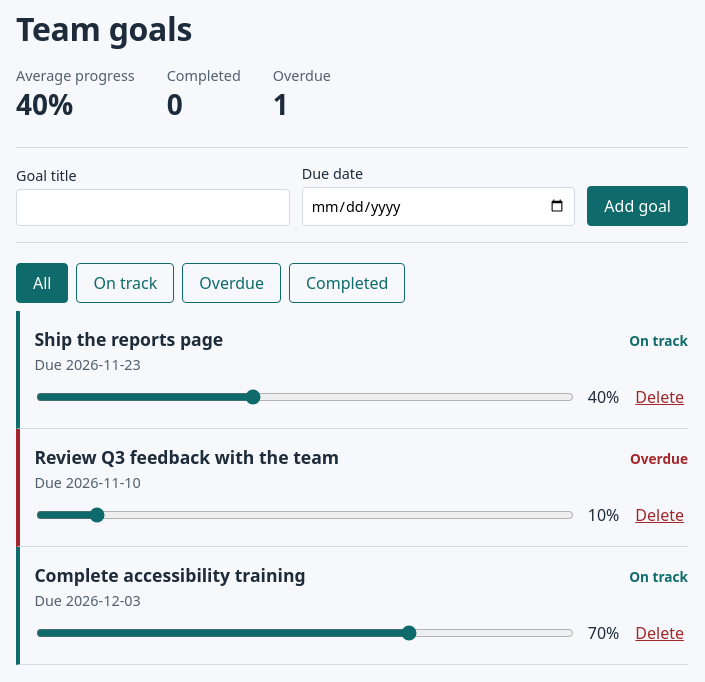
Scenario: App › updates the summary when a goal reaches 100%
The image size is (705, 682).
Expected: the text with test id "completed" reads "0", [167,85,183,123]
Set the slider named "progress for ship the reports page" to "100": (566, 397) [36,389,574,405]
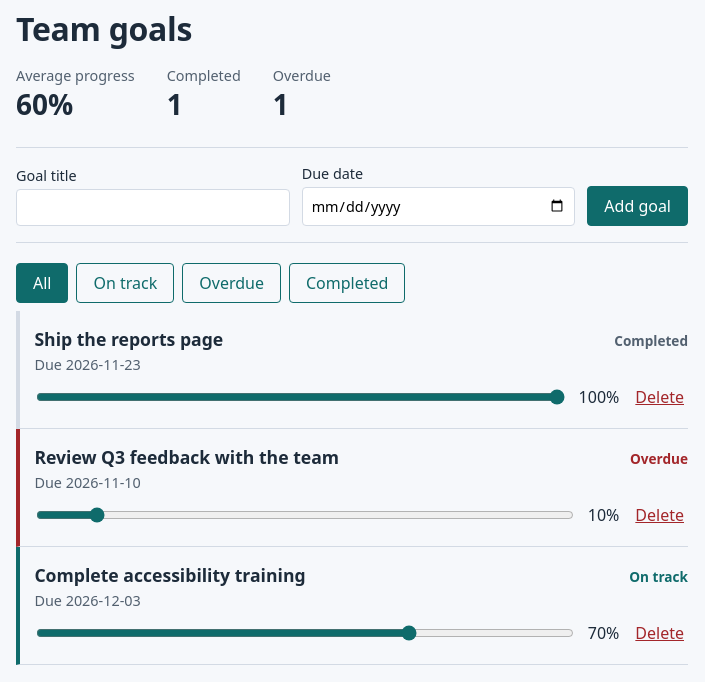
Expected: the text with test id "completed" reads "1", [167,85,183,123]
